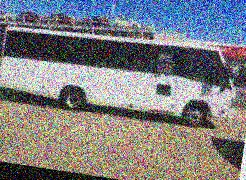bus: (0, 8, 243, 132)
